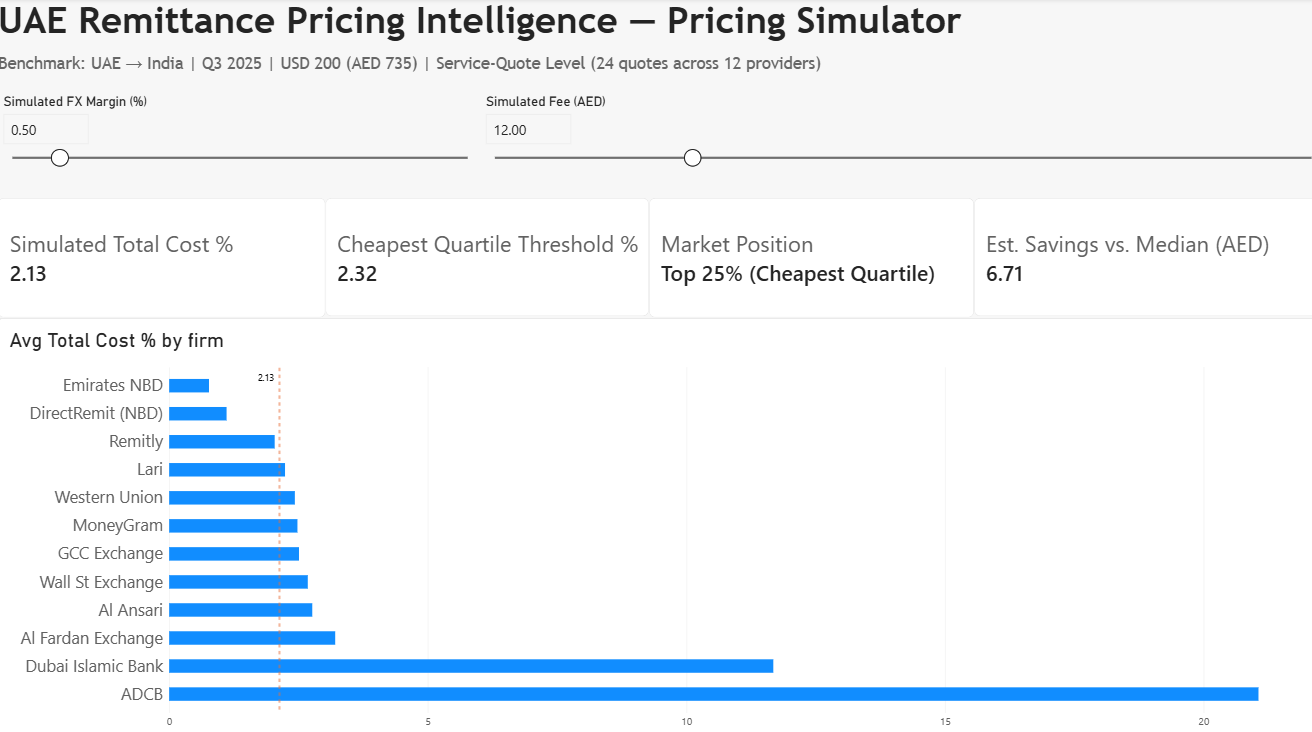

The dashboard page shown, as its layout file describes it:
{"tool":"powerbi","page":{"name":"Pricing Simulator","canvas":[1920,1080],"ordinal":2},"visuals":[{"type":"textbox","box":[0,0,1920,139.6],"z":0},{"type":"slicer","fields":{"Values":["Simulated Fee (AED).Simulated Fee (AED)"]},"box":[698,139.6,1221.7,150.9],"z":1000},{"type":"slicer","fields":{"Values":["Simulated FX Margin (%).Simulated FX Margin (%)"]},"box":[0,139.6,698.7,150.9],"z":2000},{"type":"cardVisual","fields":{"Data":["Dataset (from Q2 2016).Simulated Total Cost %"]},"box":[0,289.9,474.6,174],"z":3000},{"type":"cardVisual","fields":{"Data":["Dataset (from Q2 2016).Top Quartile threshold %"]},"box":[474.6,289.9,468.2,171.8],"z":4000},{"type":"cardVisual","fields":{"Data":["Dataset (from Q2 2016).Market Position"]},"box":[942.8,289.9,470.3,174],"z":5000},{"type":"clusteredBarChart","fields":{"Category":["Dataset (from Q2 2016).firm"],"Y":["Dataset (from Q2 2016).Avg Total Cost %"]},"box":[0,463.1,1920.4,616],"z":6000},{"type":"cardVisual","fields":{"Data":["Dataset (from Q2 2016).Est. Savings vs. Avg (AED)"]},"box":[1413.2,289.9,506.8,171.8],"z":6001}]}

Visuals, with their boxes in screenshot pixels (x1, y1, x2, y2), scaled from the page's 1920x1080 canvas onto the 1312x732 screenshot:
textbox: <bbox>0, 0, 1311, 95</bbox>
slicer - Simulated Fee (AED).Simulated Fee (AED): <bbox>477, 95, 1311, 197</bbox>
slicer - Simulated FX Margin (%).Simulated FX Margin (%): <bbox>0, 95, 477, 197</bbox>
cardVisual - Dataset (from Q2 2016).Simulated Total Cost %: <bbox>0, 196, 324, 314</bbox>
cardVisual - Dataset (from Q2 2016).Top Quartile threshold %: <bbox>324, 196, 644, 313</bbox>
cardVisual - Dataset (from Q2 2016).Market Position: <bbox>644, 196, 966, 314</bbox>
clusteredBarChart - Dataset (from Q2 2016).firm x Dataset (from Q2 2016).Avg Total Cost %: <bbox>0, 314, 1311, 731</bbox>
cardVisual - Dataset (from Q2 2016).Est. Savings vs. Avg (AED): <bbox>966, 196, 1311, 313</bbox>
